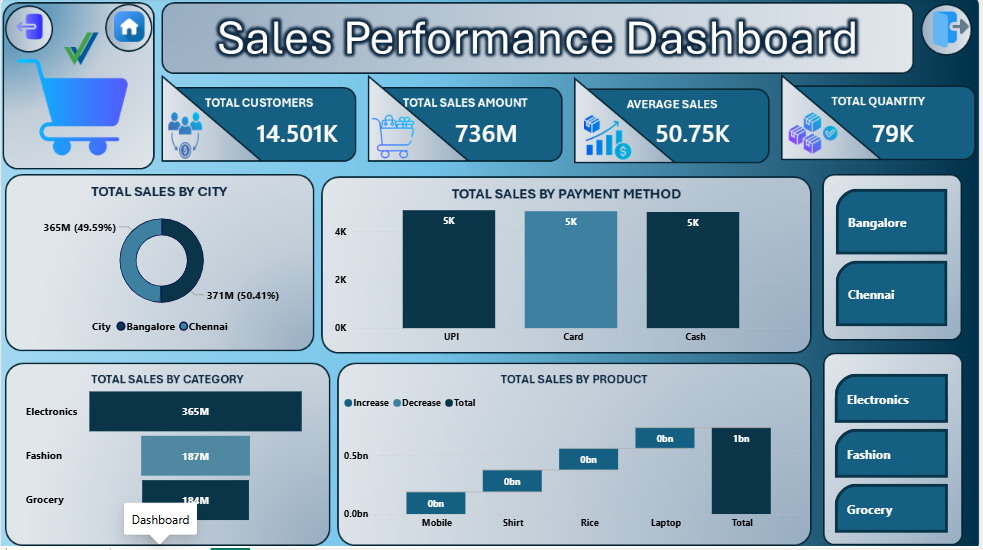

What the dashboard file says about the page in this screenshot:
{"tool":"powerbi","page":{"name":"Dashboard","canvas":[1280,720],"ordinal":1},"visuals":[{"type":"donutChart","title":"SUM OF SALES BY  CITY","fields":{"Category":["E-Commerce-Data_sheet.City"],"Y":["Sum(E-Commerce-Data_sheet.Sales_Amount)"]},"box":[16.7,268.3,386.7,180],"z":0},{"type":"clusteredColumnChart","title":"SUM OF SALES BY PAYMENT METHOD","fields":{"Category":["E-Commerce-Data_sheet.Payment_Method"],"Y":["CountNonNull(E-Commerce-Data_sheet.Sales_Category)"]},"box":[431.7,241.7,610,220],"z":1000},{"type":"funnel","title":"SUM OF SALES BY CATEGORY","fields":{"Category":["E-Commerce-Data_sheet.Category"],"Y":["Sum(E-Commerce-Data_sheet.Sales_Amount)"]},"box":[27,492.1,376.2,212.7],"z":2000},{"type":"waterfallChart","title":"SUM OF SALES BY PRODUCT","fields":{"Category":["E-Commerce-Data_sheet.Product_Name"],"Y":["Sum(E-Commerce-Data_sheet.Sales_Amount)"]},"box":[443.3,510,611.7,195],"z":3000},{"type":"advancedSlicerVisual","fields":{"Values":["E-Commerce-Data_sheet.City"]},"box":[1088.3,245,156.7,190],"z":4000},{"type":"advancedSlicerVisual","fields":{"Values":["E-Commerce-Data_sheet.Category"]},"box":[1086.7,486.7,158.3,218.3],"z":5000},{"type":"image","box":[16.7,15,40,45],"z":6000},{"type":"image","box":[148.3,15,40,45],"z":7000},{"type":"image","box":[1219.4,15.3,47.2,51.4],"z":8000},{"type":"cardVisual","fields":{"Data":["CountNonNull(E-Commerce-Data_sheet.Customer_Name)"]},"box":[305.6,123.6,226.4,100],"z":9000},{"type":"cardVisual","fields":{"Data":["Avg(E-Commerce-Data_sheet.Sales_Amount)"]},"box":[827.8,123.6,226.4,100],"z":10000},{"type":"cardVisual","fields":{"Data":["Sum(E-Commerce-Data_sheet.Sales_Amount)"]},"box":[565.3,123.6,170.8,100],"z":11000},{"type":"cardVisual","fields":{"Data":["Sum(E-Commerce-Data_sheet.Quantity)"]},"box":[1111.1,123.6,169.4,100],"z":12000},{"type":"image","box":[75,37.5,61.1,56.9],"z":13000}]}

Visuals, with their boxes in screenshot pixels (x1, y1, x2, y2), scaled from the page's 1280x720 canvas onto the 983x550 screenshot:
"SUM OF SALES BY  CITY" donutChart: (x1=13, y1=205, x2=310, y2=342)
"SUM OF SALES BY PAYMENT METHOD" clusteredColumnChart: (x1=332, y1=185, x2=800, y2=353)
"SUM OF SALES BY CATEGORY" funnel: (x1=21, y1=376, x2=310, y2=538)
"SUM OF SALES BY PRODUCT" waterfallChart: (x1=340, y1=390, x2=810, y2=539)
advancedSlicerVisual - E-Commerce-Data_sheet.City: (x1=836, y1=187, x2=956, y2=332)
advancedSlicerVisual - E-Commerce-Data_sheet.Category: (x1=835, y1=372, x2=956, y2=539)
image: (x1=13, y1=11, x2=44, y2=46)
image: (x1=114, y1=11, x2=145, y2=46)
image: (x1=936, y1=12, x2=973, y2=51)
cardVisual - CountNonNull(E-Commerce-Data_sheet.Customer_Name): (x1=235, y1=94, x2=409, y2=171)
cardVisual - Avg(E-Commerce-Data_sheet.Sales_Amount): (x1=636, y1=94, x2=810, y2=171)
cardVisual - Sum(E-Commerce-Data_sheet.Sales_Amount): (x1=434, y1=94, x2=565, y2=171)
cardVisual - Sum(E-Commerce-Data_sheet.Quantity): (x1=853, y1=94, x2=982, y2=171)
image: (x1=58, y1=29, x2=105, y2=72)
